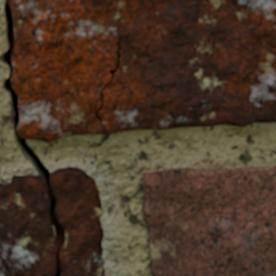brick: (8, 0, 275, 141), (142, 166, 275, 275)
broken_brick: (51, 166, 105, 275), (0, 174, 55, 275)
crack: (0, 1, 67, 275), (95, 36, 122, 134)
